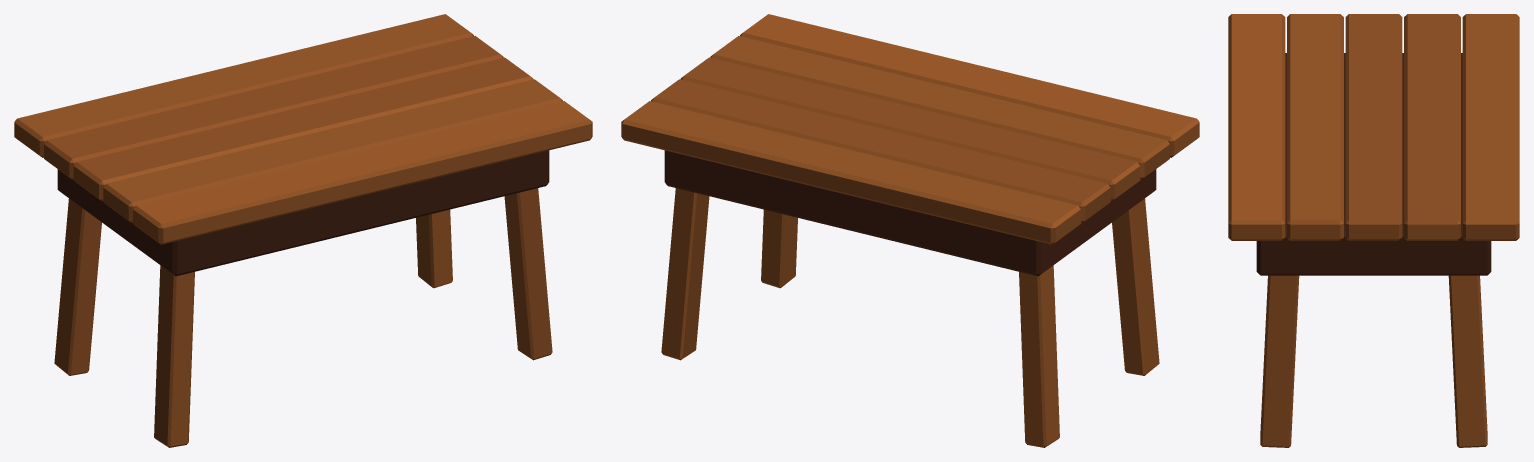
The model's file is EH_DiningTable.fbx.
3 renders of one model, left to right at view 1: azimuth 30°, elevation 25°; view 2: azimuth 150°, elevation 25°; view 3: azimuth 270°, elevation 25°, orthographic.
Parts seen in each view (by area): view 1: EH_DiningTable; view 2: EH_DiningTable; view 3: EH_DiningTable.
Boxes of the visible parts, box(x1,y1,x2,y2) form: EH_DiningTable: box(14, 14, 592, 447); EH_DiningTable: box(621, 14, 1199, 447); EH_DiningTable: box(1228, 14, 1519, 447).
Bounding box in the file's own units: 1.52 × 0.8138 × 0.895.
